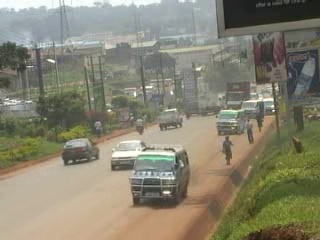Car: (109, 136, 147, 171), (60, 136, 101, 164)
Motorcycle: (131, 116, 146, 134)
